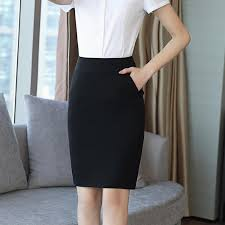F_tailored skirt: (65, 53, 144, 199)
